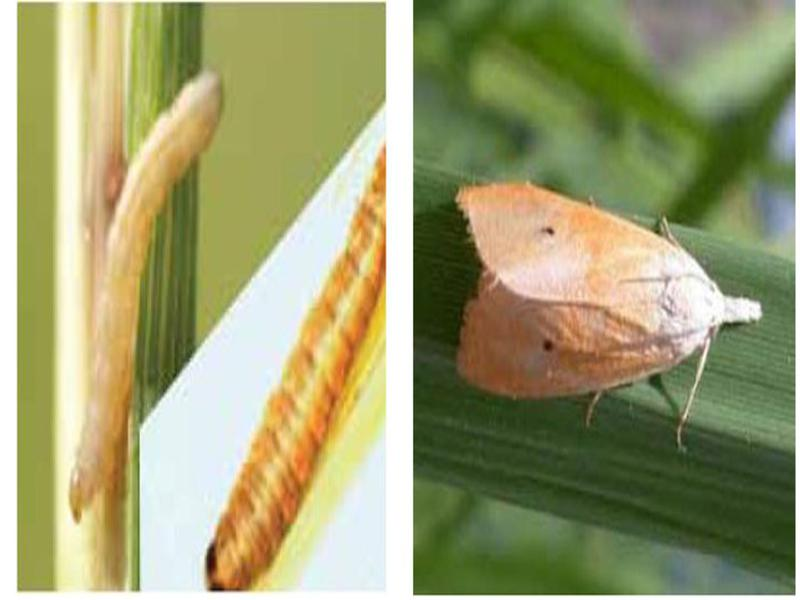Rice_skipper: (446, 161, 766, 450), (48, 57, 234, 541), (244, 150, 382, 566)
